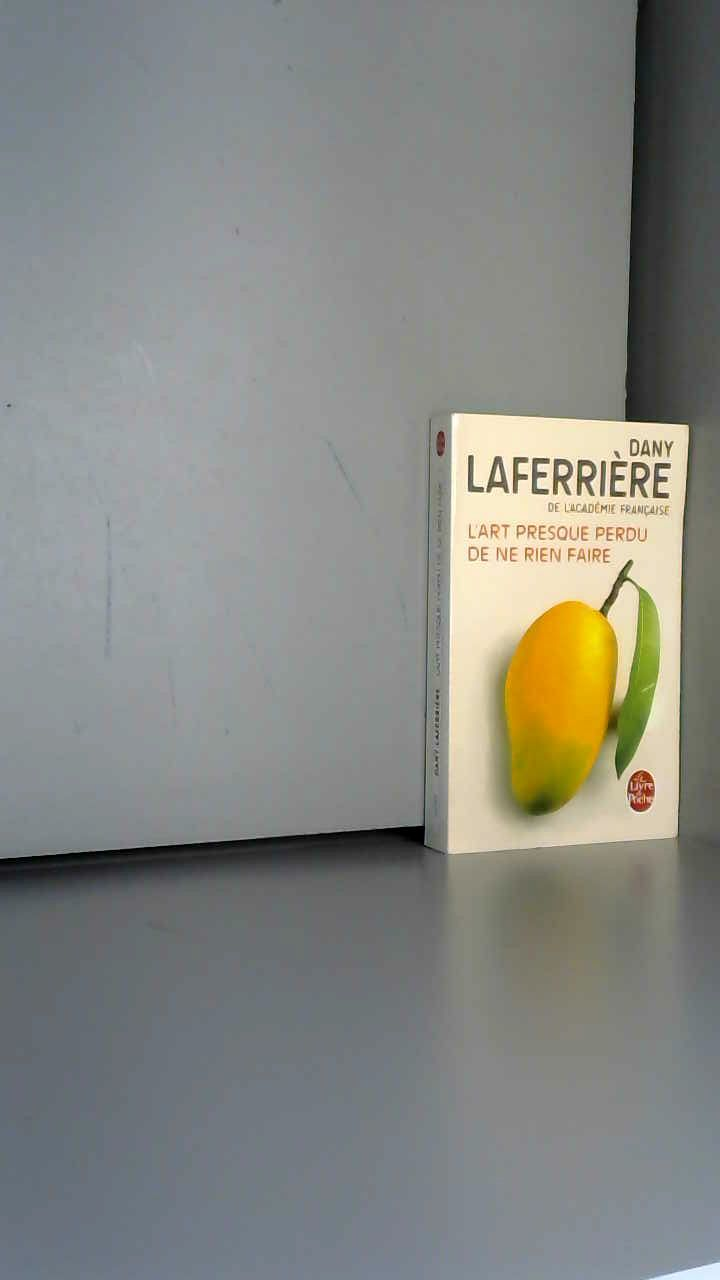book: (420, 390, 718, 878)
